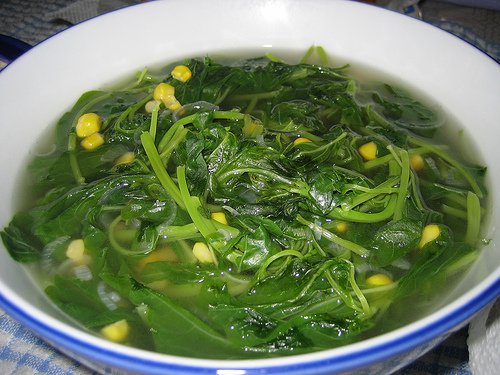Sayur Bayam: (31, 43, 483, 368)
